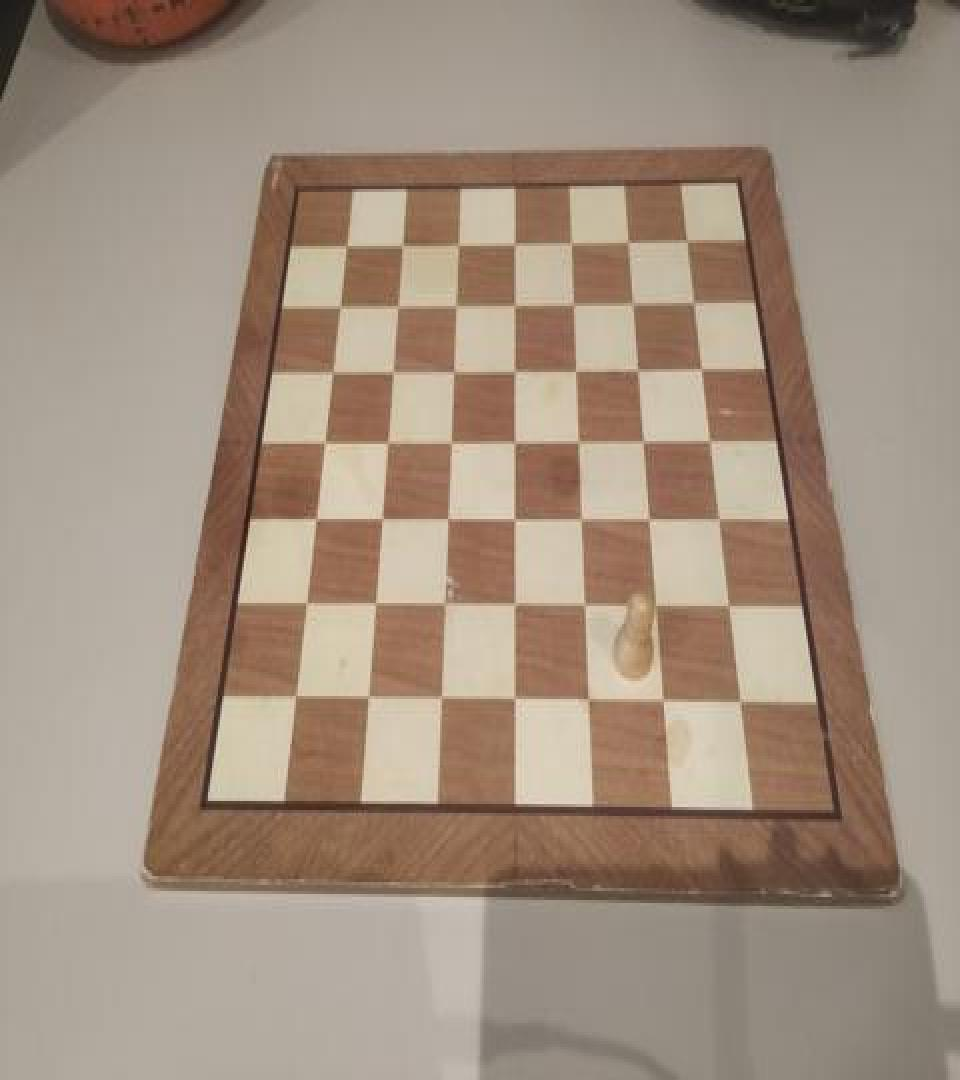xcorner: (506, 223, 526, 254), (563, 223, 583, 254), (619, 223, 639, 254), (676, 223, 696, 254), (509, 684, 529, 714), (583, 684, 603, 714), (658, 684, 678, 714), (733, 686, 753, 716), (368, 588, 388, 618), (438, 588, 458, 618), (508, 588, 528, 618), (579, 588, 599, 618), (650, 588, 670, 618), (721, 588, 741, 618), (307, 501, 327, 531), (374, 501, 394, 531), (441, 501, 461, 531), (508, 501, 528, 531), (575, 501, 595, 531), (643, 501, 663, 531), (711, 501, 731, 531), (316, 423, 336, 453), (379, 423, 399, 453), (443, 423, 463, 453), (507, 423, 527, 453), (571, 423, 591, 453), (636, 422, 656, 452), (701, 422, 721, 452), (324, 351, 344, 381), (385, 351, 405, 381), (446, 351, 466, 381), (507, 351, 527, 381), (568, 351, 588, 381), (630, 350, 650, 380), (692, 350, 712, 380), (331, 286, 351, 316), (389, 285, 409, 315), (448, 285, 468, 315), (506, 285, 526, 315), (565, 285, 585, 315), (624, 284, 644, 314), (684, 284, 704, 314), (338, 225, 358, 255), (394, 225, 414, 255), (450, 225, 470, 255), (287, 683, 307, 712), (361, 683, 381, 712), (434, 683, 454, 712), (298, 587, 318, 616)
